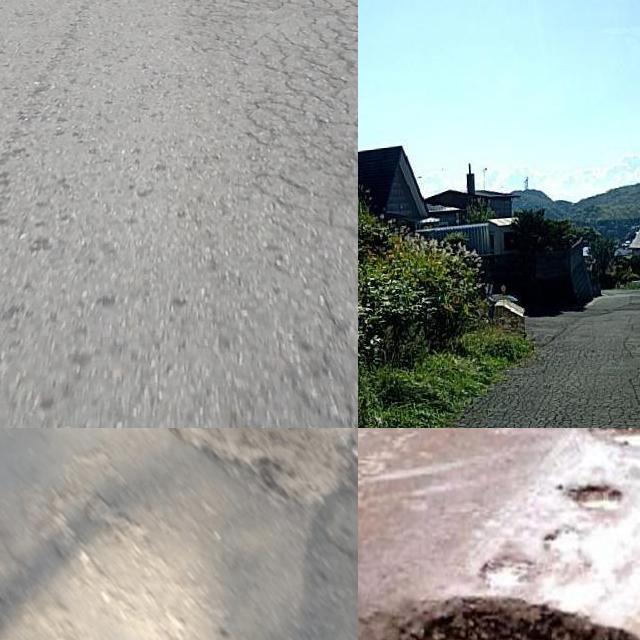Lubang: (175, 428, 358, 507)
Retak Buaya: (211, 0, 358, 355)
